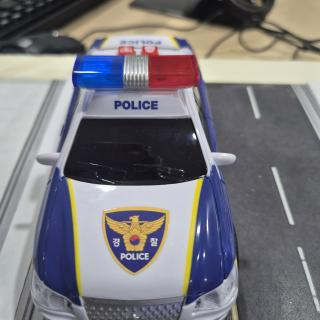Police_car: (31, 35, 238, 320)
